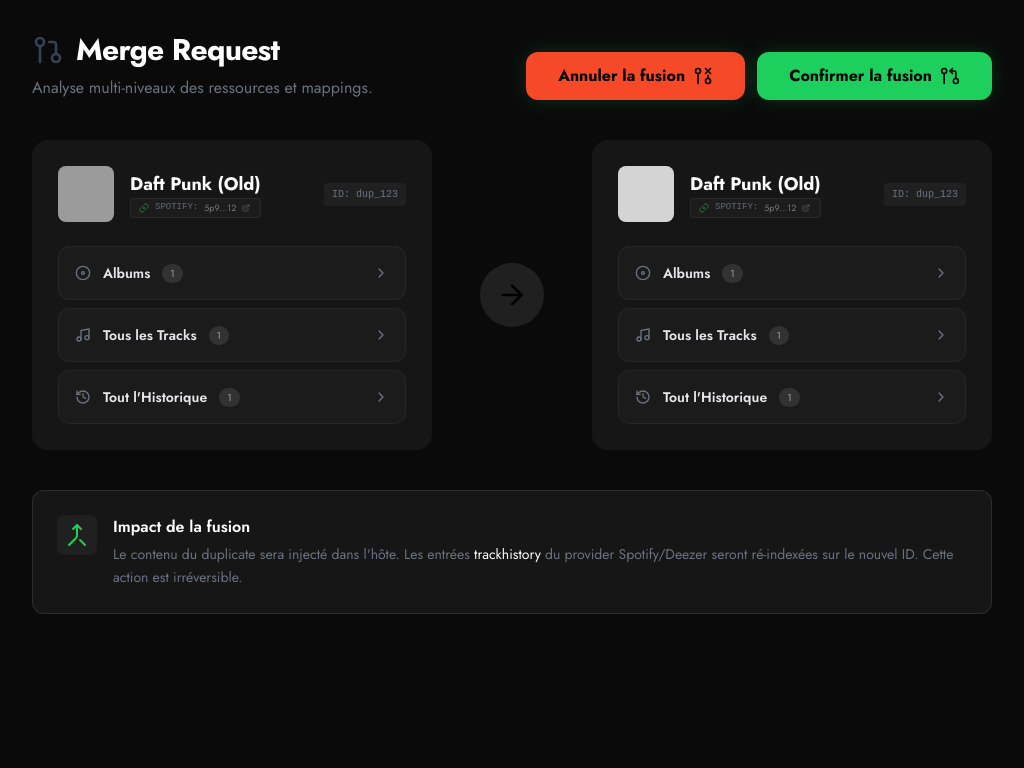
Scenario: MergeRequestPage (détail) › déplier Tous les Tracks affiche les tracks à plat
The image size is (1024, 768).
Click the 1st button "Tous les Tracks 1": click(232, 335) [59, 309, 405, 361]
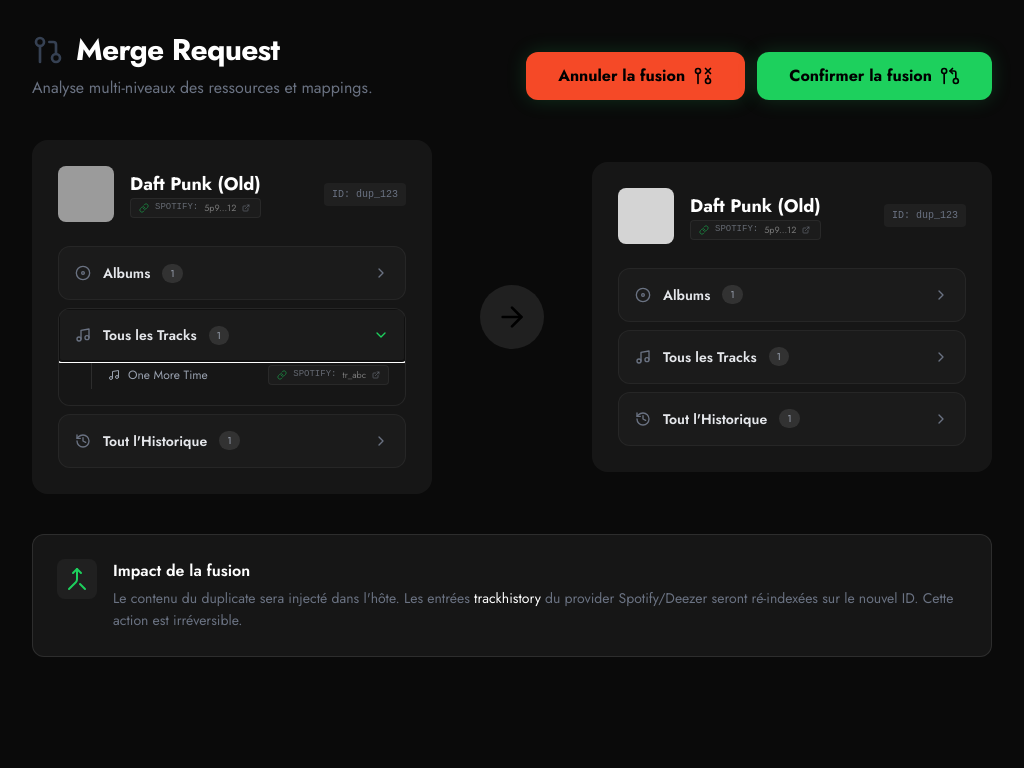
expect the button "One More Time" is shown: met, box [108, 367, 208, 383]
